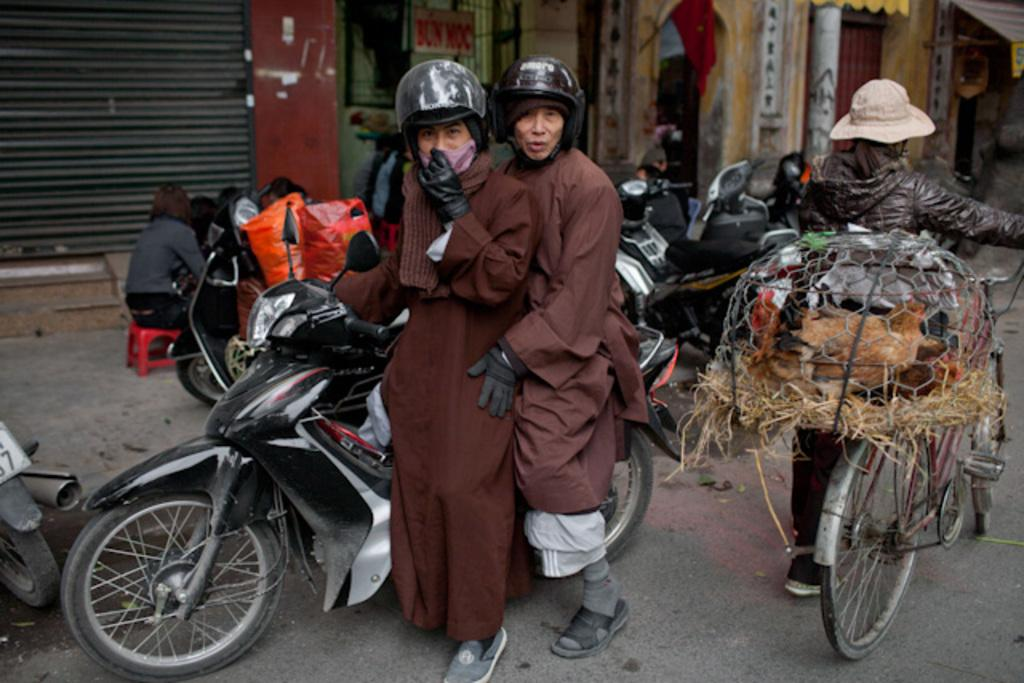helmet: (395, 59, 487, 171), (492, 55, 583, 160)
nohelmet: (830, 79, 935, 161), (151, 183, 191, 225)
